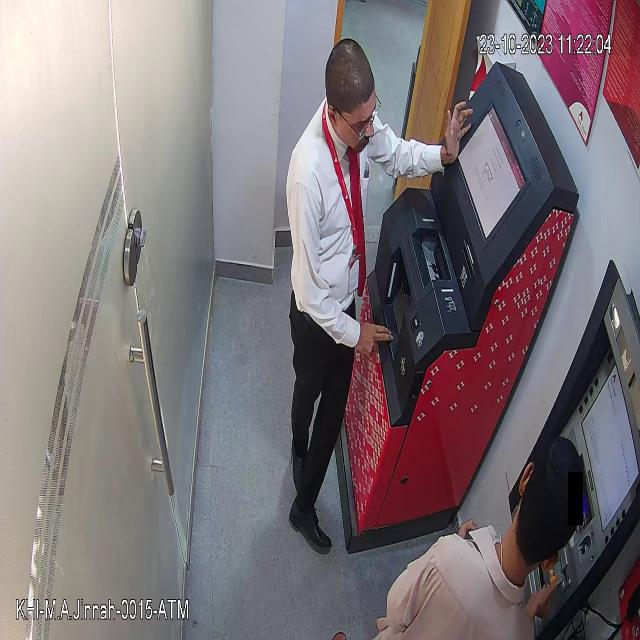atm-card: (547, 551, 571, 590)
